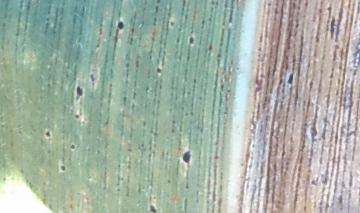tarspot: (327, 15, 337, 39), (181, 148, 191, 164), (74, 86, 85, 98), (286, 71, 294, 85), (115, 19, 126, 29), (147, 204, 158, 213), (188, 33, 195, 45), (58, 163, 67, 172), (309, 178, 318, 187), (88, 74, 98, 82), (69, 142, 77, 151), (44, 129, 51, 137), (156, 66, 162, 75), (73, 112, 80, 119), (169, 19, 175, 27)
